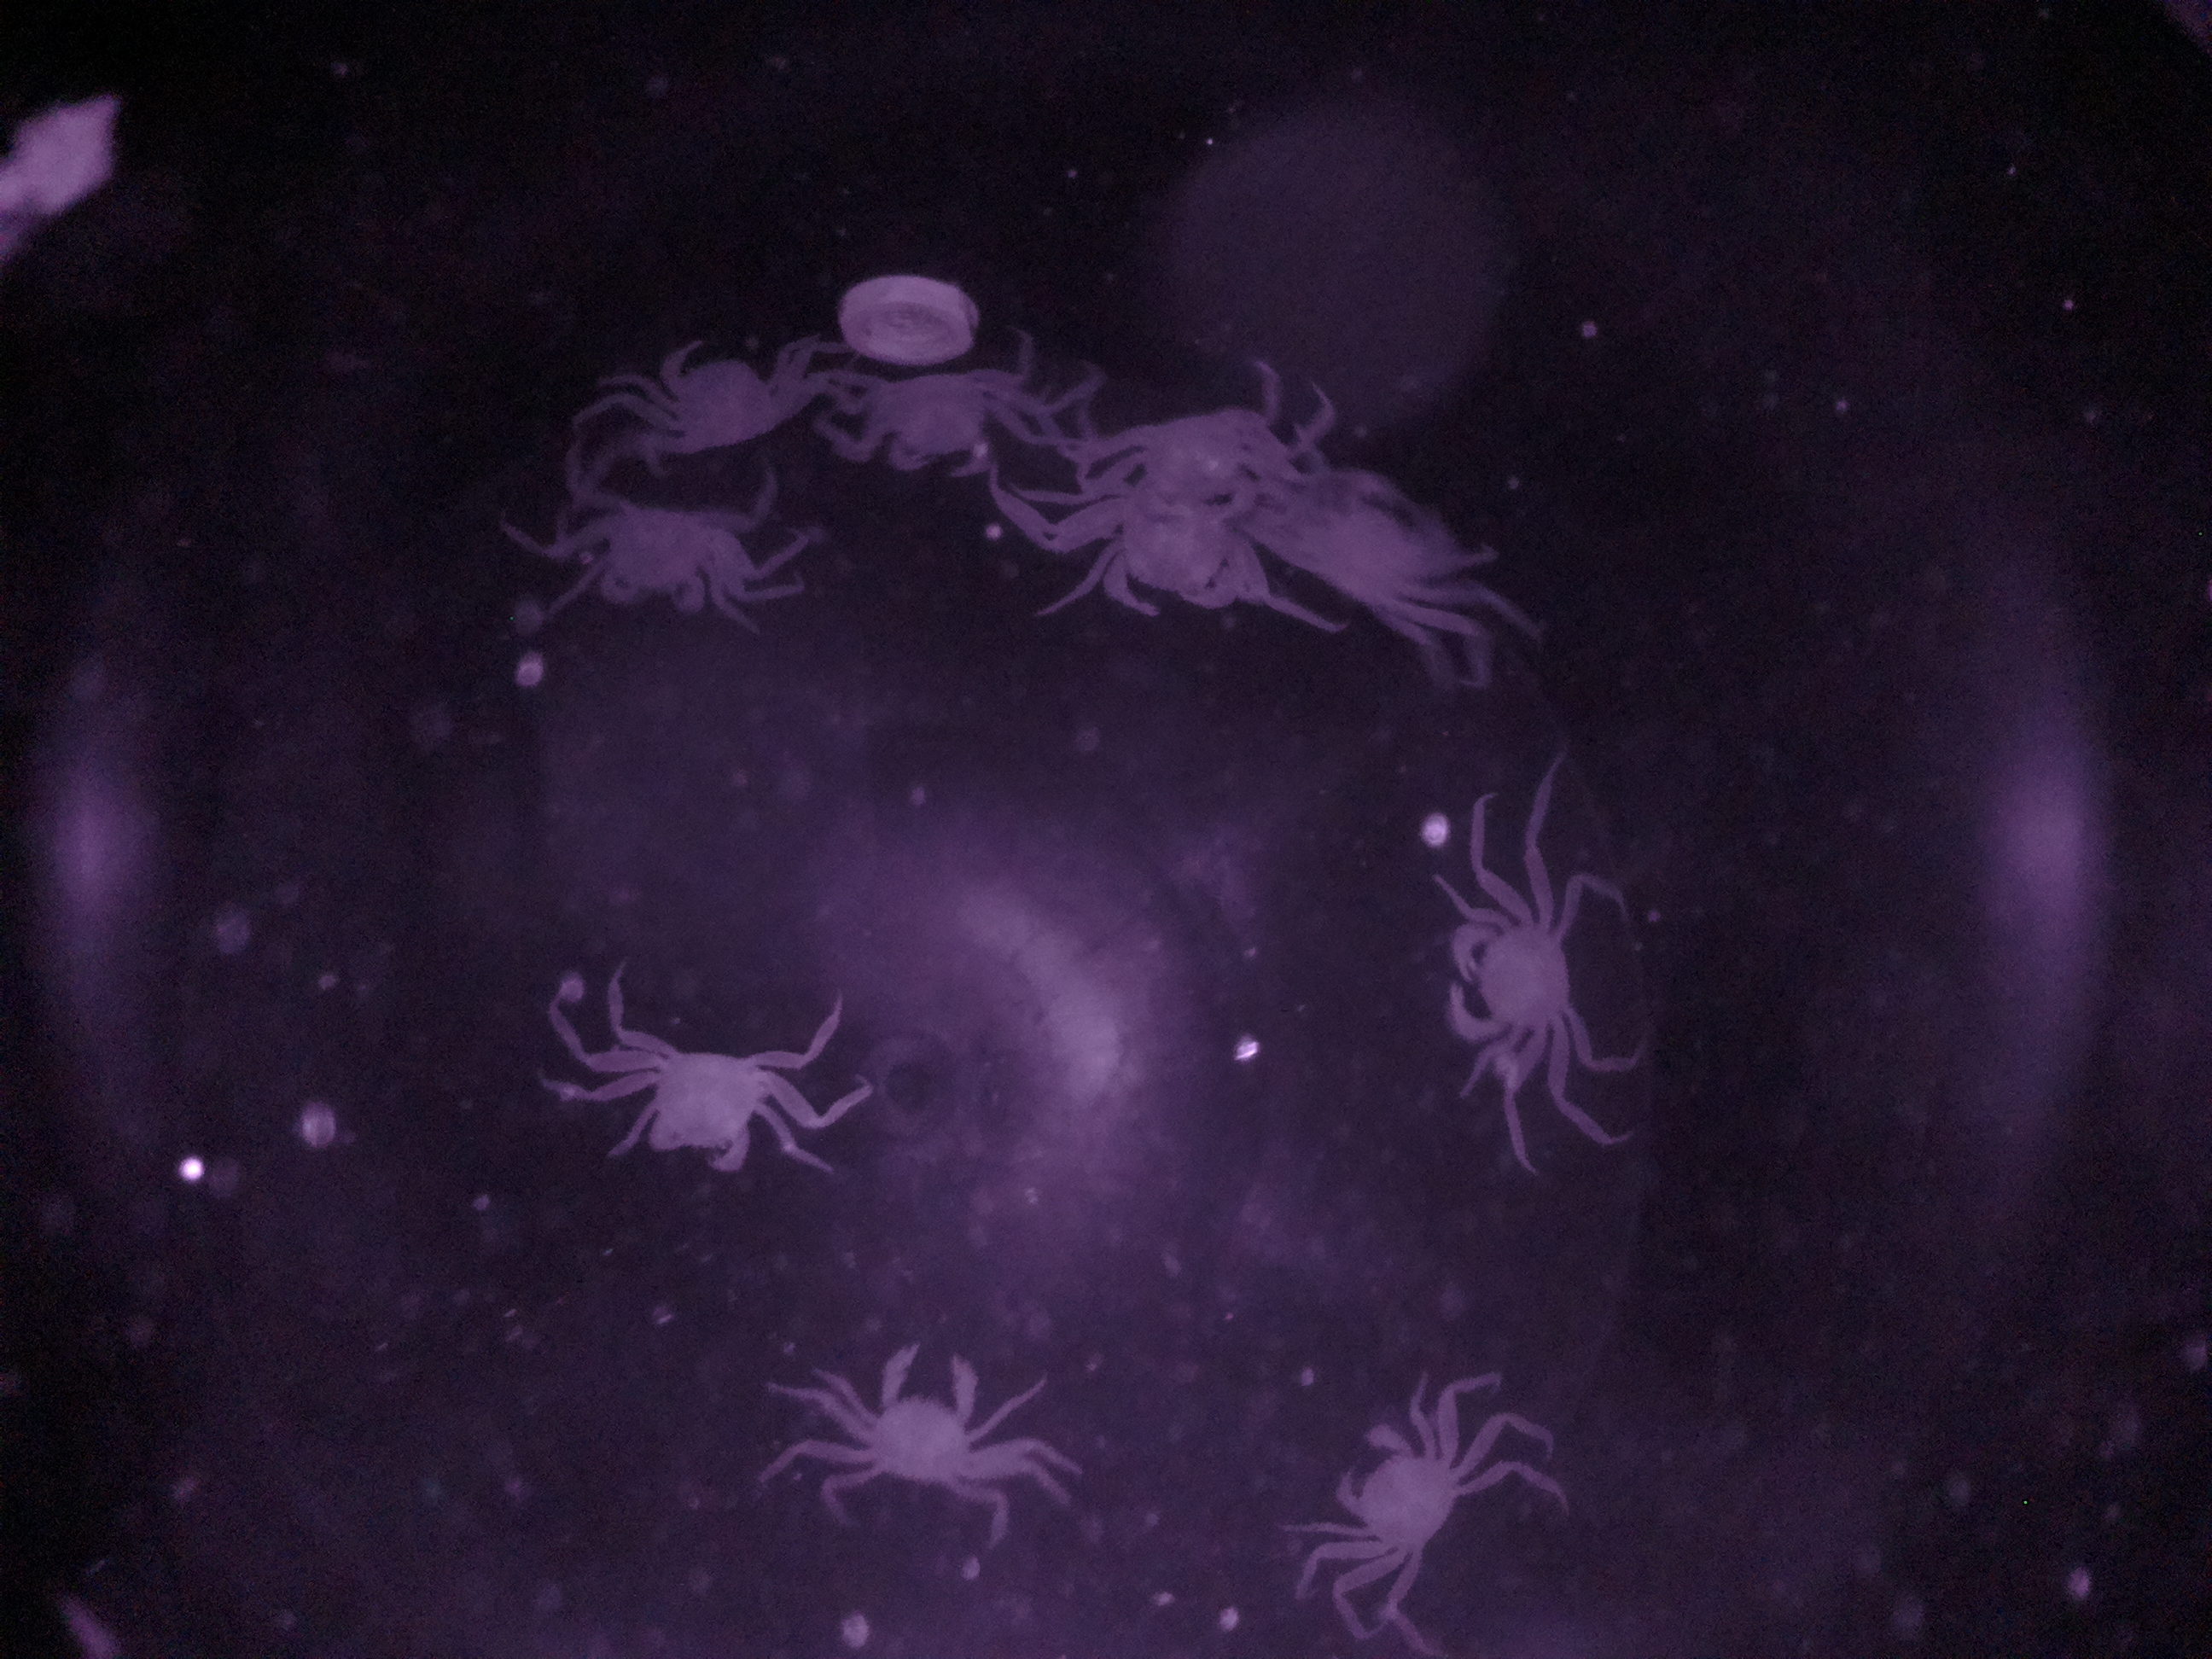Crab: (596, 997, 805, 1178), (1299, 1401, 1501, 1588), (1426, 866, 1599, 1080), (557, 476, 763, 629), (834, 1328, 986, 1507)
